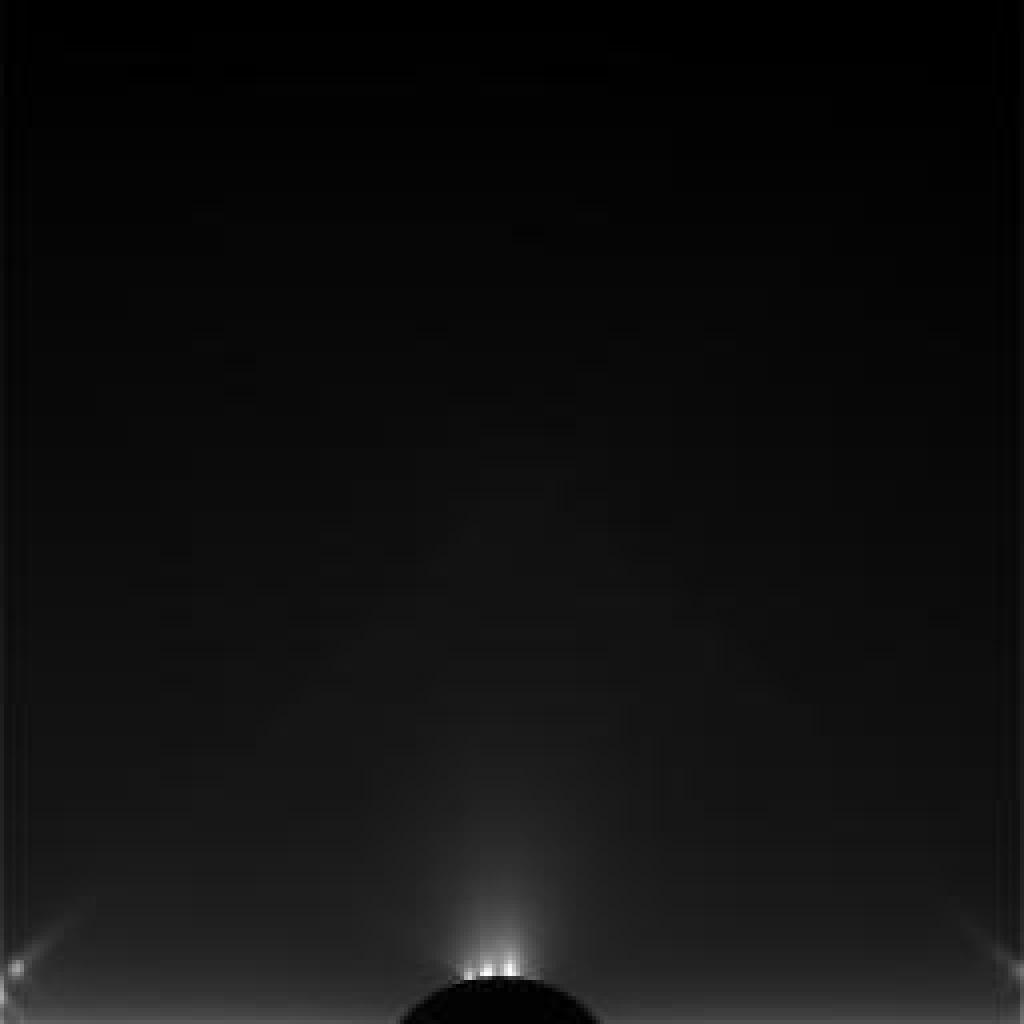plumes: (440, 868, 541, 979)
